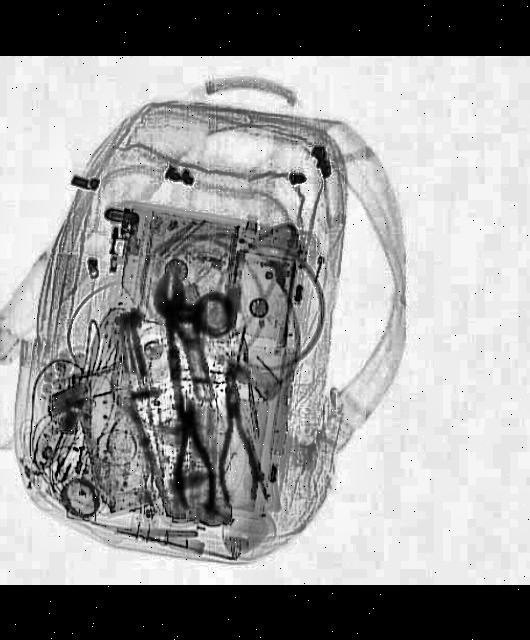Pliers: (214, 368, 264, 506), (166, 396, 220, 522)
Wrench: (151, 270, 205, 372)
